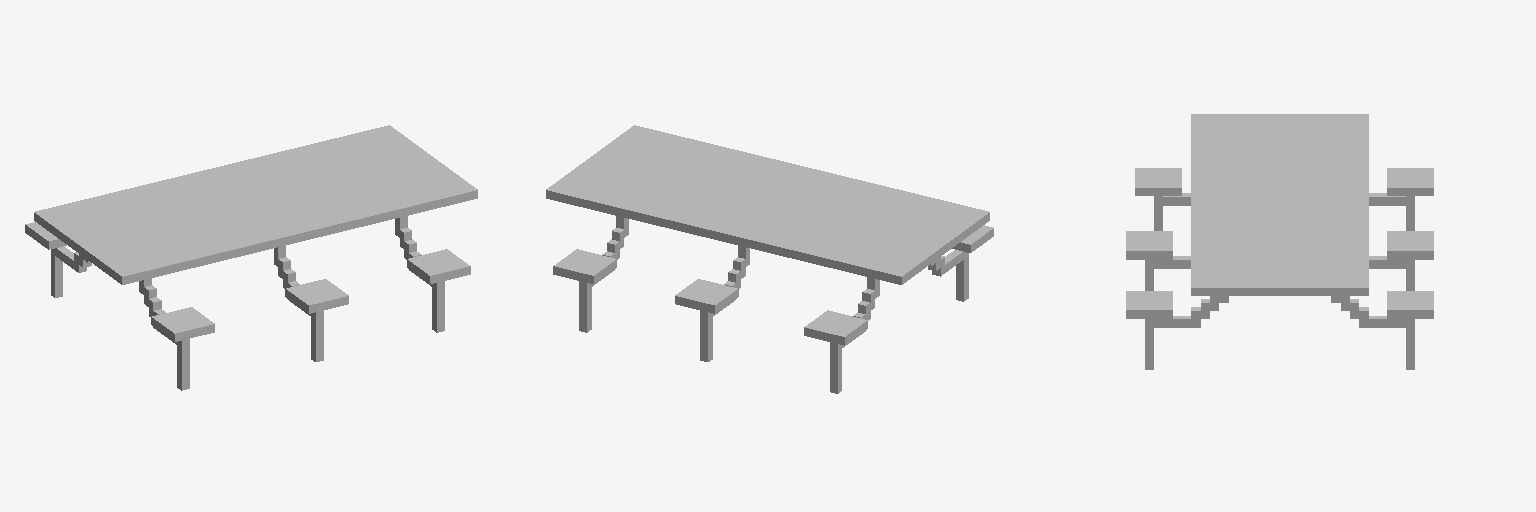
Rendered from Table.obj.
The picture shows the model from 3 angles: view 1: azimuth 30°, elevation 25°; view 2: azimuth 150°, elevation 25°; view 3: azimuth 270°, elevation 25°; orthographic projection.
Size of the model in its own units: 44 by 13 by 33.